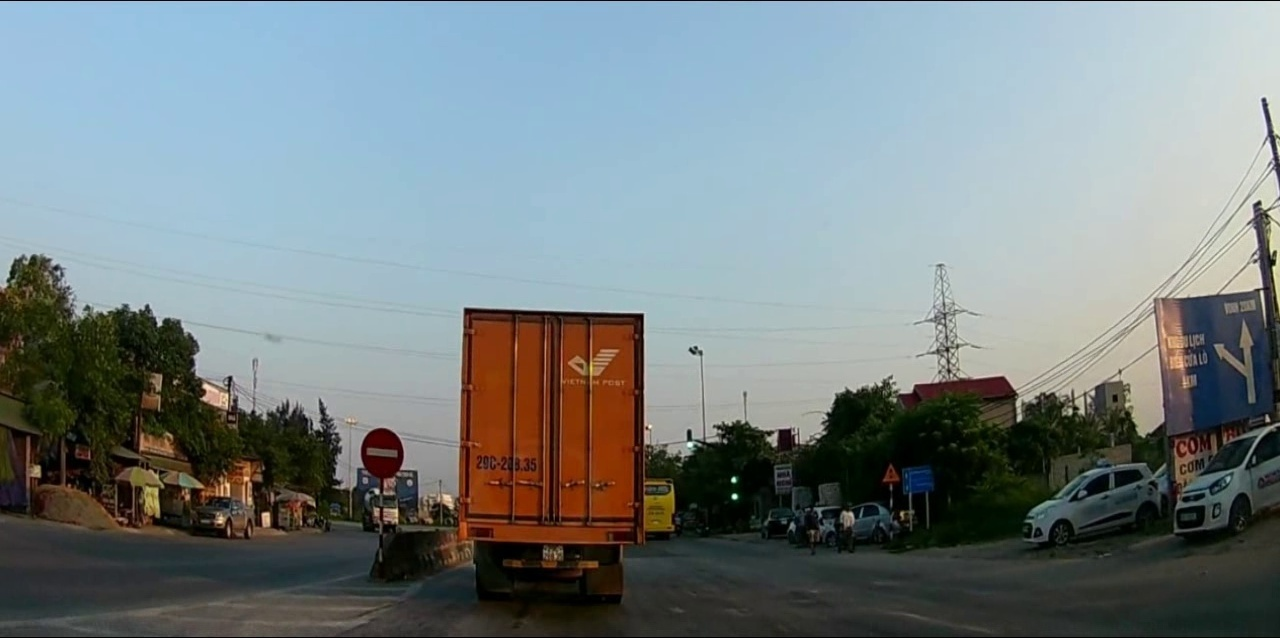Cam di nguoc chieu: (355, 424, 405, 480)
